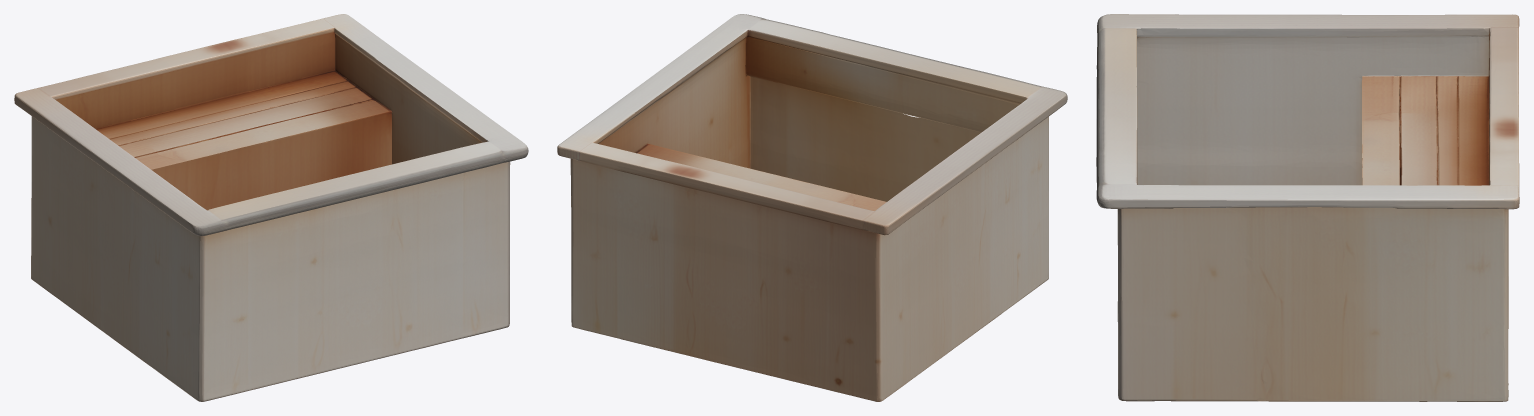
3 renders of one model, left to right at view 1: azimuth 30°, elevation 25°; view 2: azimuth 150°, elevation 25°; view 3: azimuth 270°, elevation 25°, orthographic. The views are drawn at different scales.
Parts seen in each view (by area): view 1: world; view 2: world; view 3: world.
Boxes of the visible parts, x1,y1,x2,y2 form: world: [14, 14, 528, 401]; world: [557, 14, 1067, 401]; world: [1096, 14, 1519, 401].
Size of the model in its own units: 1 by 0.5282 by 0.9653.
1 material, 1 textured.
